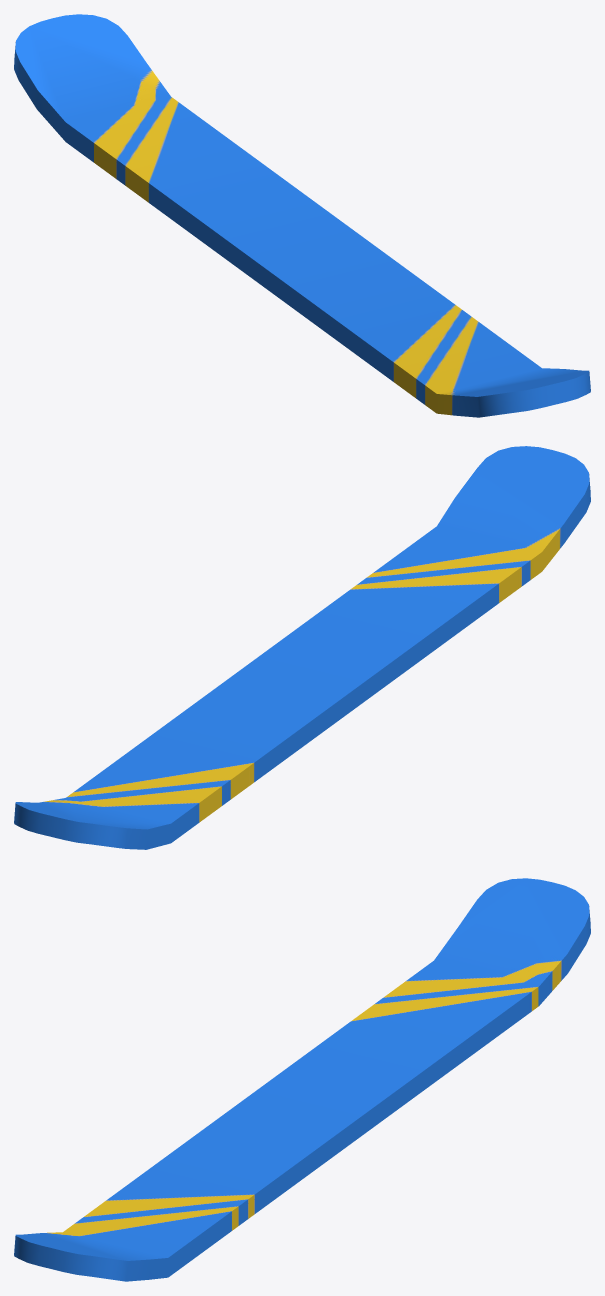
The model's file is snowboard.fbx.
The picture shows the model from 3 angles, top to bottom: view 1: azimuth 30°, elevation 25°; view 2: azimuth 150°, elevation 25°; view 3: azimuth 330°, elevation 25°; orthographic projection.
Visible parts, largest first — view 1: snowboard; view 2: snowboard; view 3: snowboard.
Part boxes in pixels (x1=…): snowboard: x1=14, y1=14, x2=590, y2=417; snowboard: x1=14, y1=446, x2=590, y2=849; snowboard: x1=14, y1=878, x2=590, y2=1281.
Bounding box in the file's own units: 125 × 68.33 × 994.
1 material, 1 textured.
